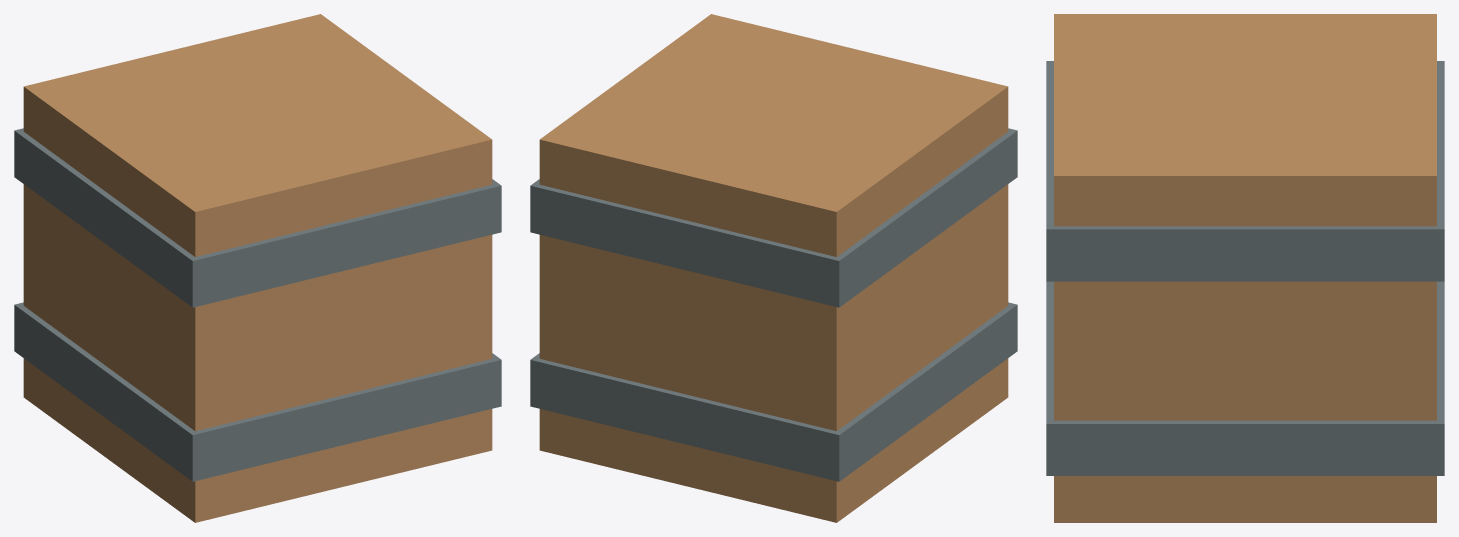
Rendered from static-crate.glb.
The picture shows the model from 3 angles, left to right: view 1: azimuth 30°, elevation 25°; view 2: azimuth 150°, elevation 25°; view 3: azimuth 270°, elevation 25°; orthographic projection. The views are drawn at different scales.
Bounding box in the file's own units: 1.04 × 1 × 1.04.
